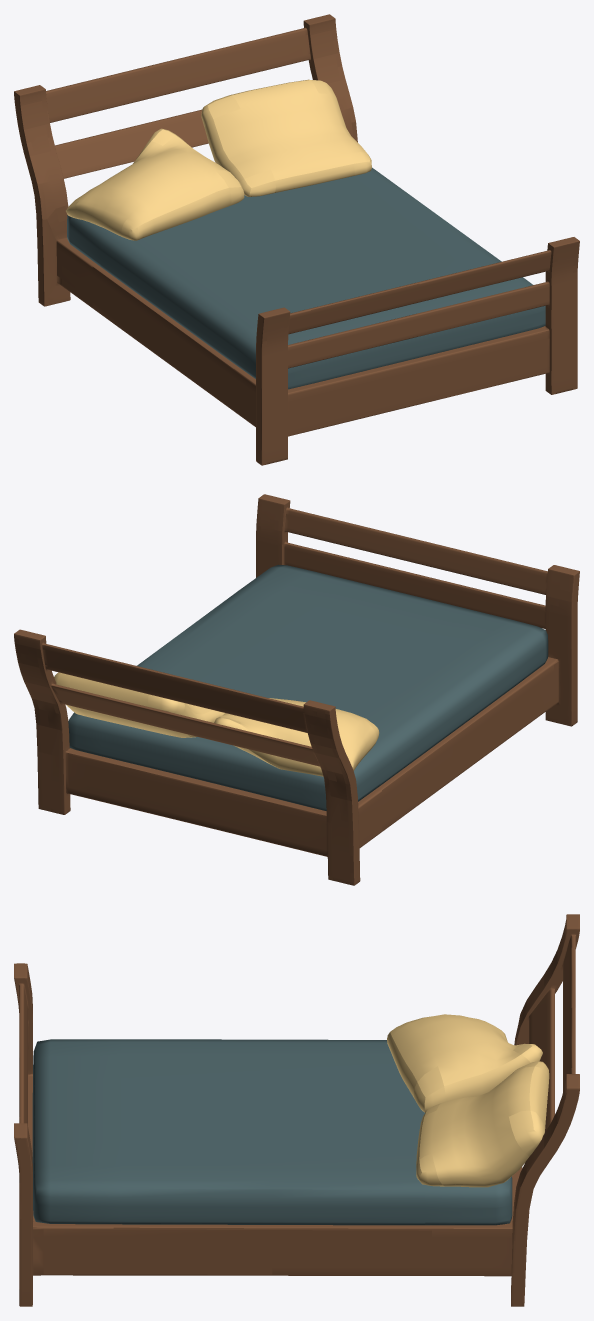
Rendered from 54_bed.glb.
The picture shows the model from 3 angles, top to bottom: view 1: azimuth 30°, elevation 25°; view 2: azimuth 150°, elevation 25°; view 3: azimuth 270°, elevation 25°; orthographic projection. The views are drawn at different scales.
Visible parts, largest first — view 1: bed, matress, pillow right, pillow left; view 2: bed, matress, pillow left, pillow right; view 3: matress, bed, pillow right, pillow left.
Boxes of the visible parts, x1,y1,x2,y2 form: bed: [14, 14, 579, 465]; matress: [67, 167, 545, 389]; pillow right: [201, 79, 371, 196]; pillow left: [66, 128, 244, 240]; bed: [14, 494, 579, 885]; matress: [68, 564, 548, 810]; pillow left: [214, 698, 379, 776]; pillow right: [54, 672, 224, 737]; matress: [32, 1039, 512, 1225]; bed: [14, 914, 579, 1306]; pillow right: [416, 1061, 549, 1187]; pillow left: [387, 1014, 542, 1112].
Bounding box in the file's own units: 1.97 × 1.15 × 2.7.
